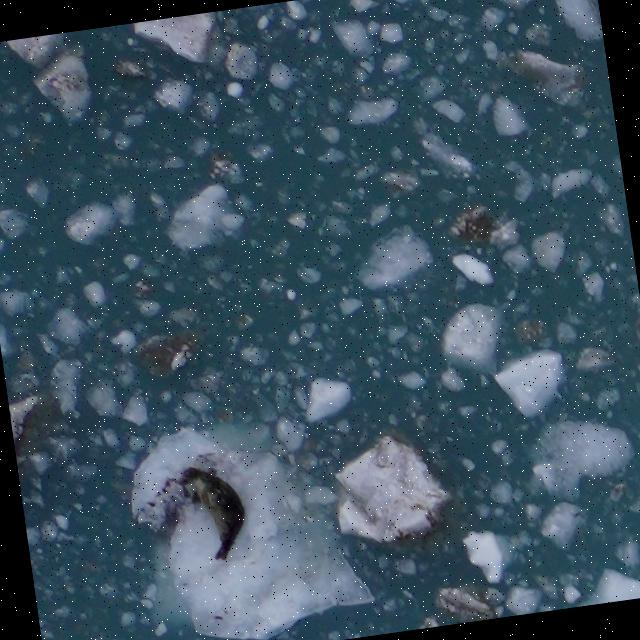seal: (173, 456, 254, 568)
